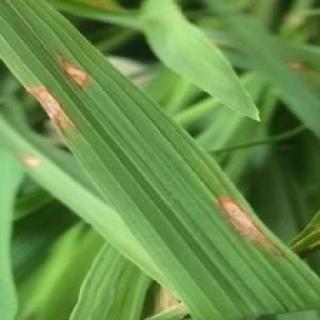Blast: (219, 196, 276, 251), (34, 89, 71, 133), (60, 54, 87, 86)
